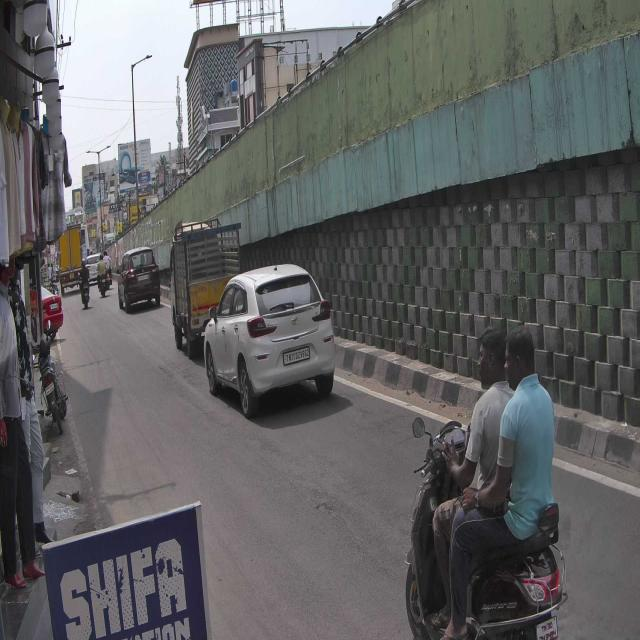double_rider: (407, 319, 562, 640)
